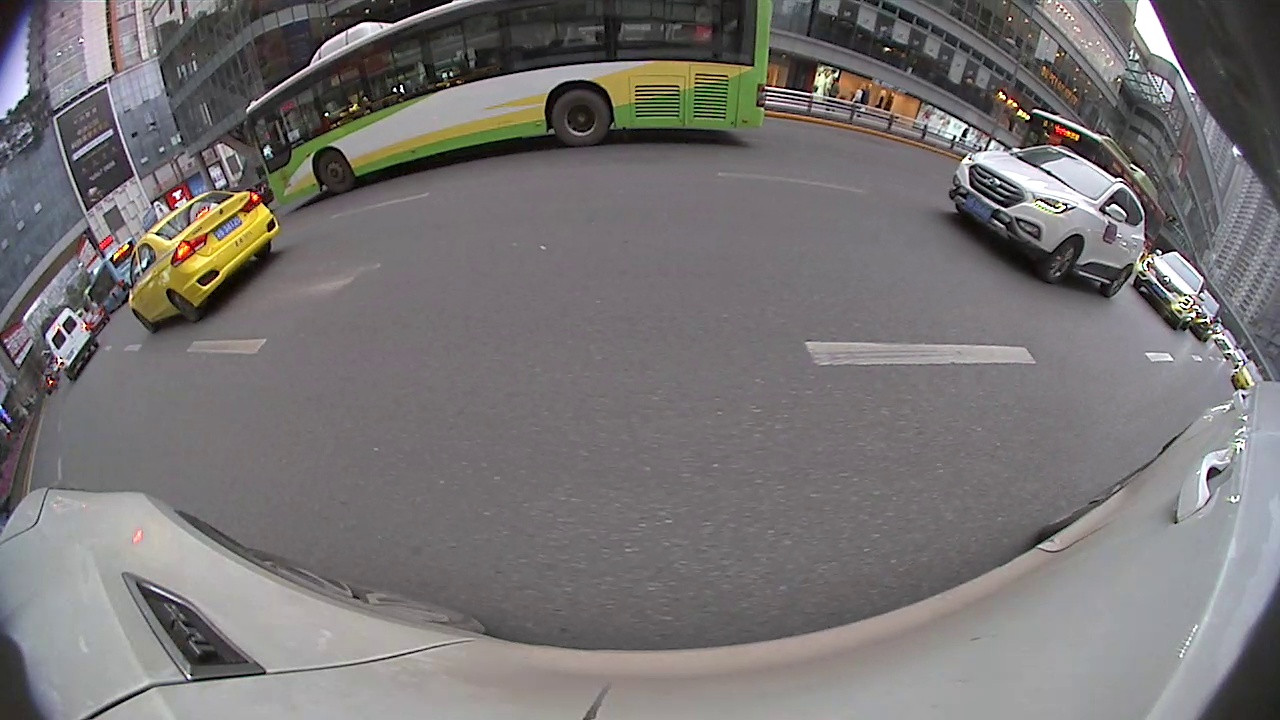bus: (243, 1, 778, 226)
car: (946, 148, 1150, 301), (122, 189, 282, 334), (1127, 250, 1211, 330), (43, 307, 98, 386)
front: (1041, 236, 1081, 286), (315, 151, 352, 194)
rear: (549, 89, 613, 151), (169, 287, 203, 322), (1101, 263, 1130, 300)
